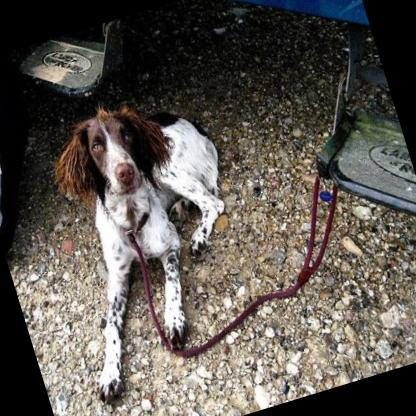English_springer: (15, 74, 280, 407)
